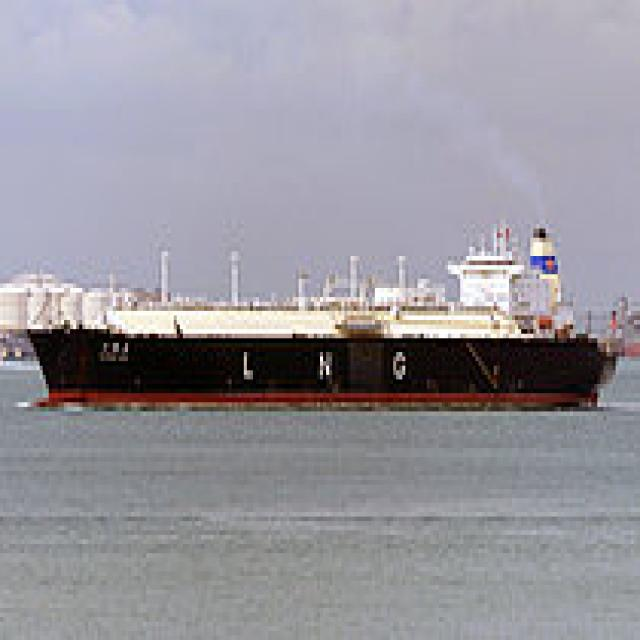Tanker: (18, 215, 616, 407)
